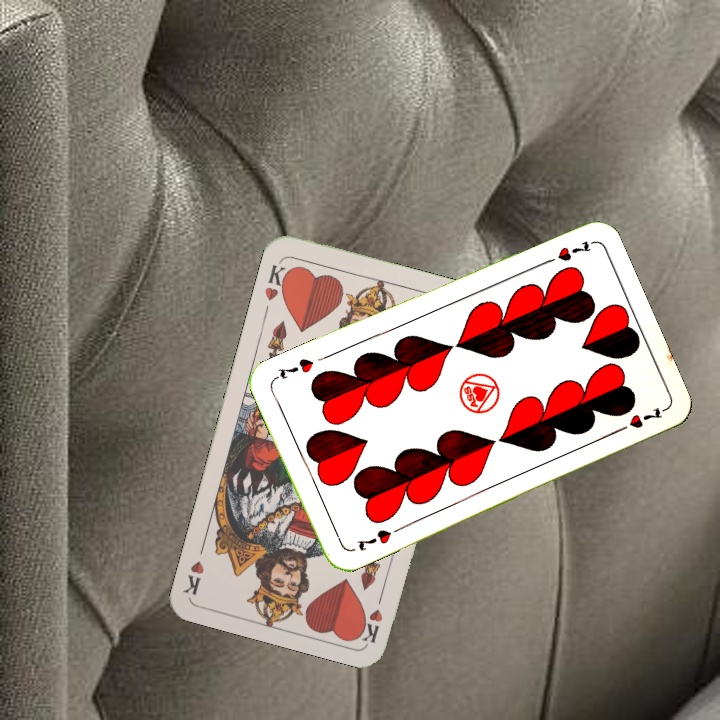H7: (538, 237, 595, 267), (352, 525, 394, 554)
HK: (358, 586, 387, 645), (260, 257, 294, 303)
